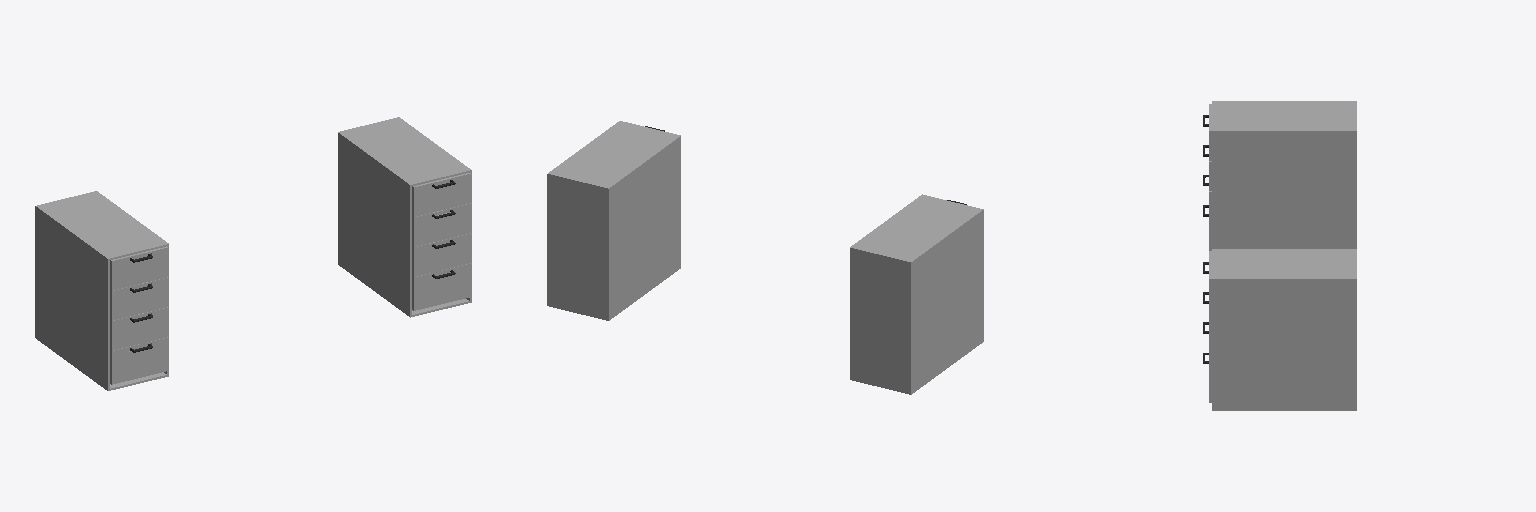
The model's file is table2.obj.
The picture shows the model from 3 angles: view 1: azimuth 30°, elevation 25°; view 2: azimuth 150°, elevation 25°; view 3: azimuth 270°, elevation 25°; orthographic projection.
Visible parts, largest first — view 1: Drawer, Drawer.001, Cube.001, Cube.015, Cube.016, Cube.012, Cube.017, Cube.018, Cube.014, Cube.013; view 2: Drawer, Drawer.001; view 3: Drawer.001, Drawer.
Boxes of the visible parts, box(x1,y1,x2,y2) form: Drawer: box(35, 191, 168, 390); Drawer.001: box(338, 117, 471, 317); Cube.001: box(412, 263, 470, 310); Cube.015: box(110, 337, 167, 384); Cube.016: box(412, 173, 470, 216); Cube.012: box(110, 246, 167, 290); Cube.017: box(412, 203, 470, 246); Cube.018: box(412, 233, 470, 276); Cube.014: box(110, 307, 167, 350); Cube.013: box(110, 277, 167, 320); Drawer: box(850, 194, 983, 394); Drawer.001: box(547, 121, 680, 320); Drawer.001: box(1212, 249, 1356, 410); Drawer: box(1212, 101, 1356, 248).
Size of the model in its own units: 0.8947 by 0.3113 by 0.3297.